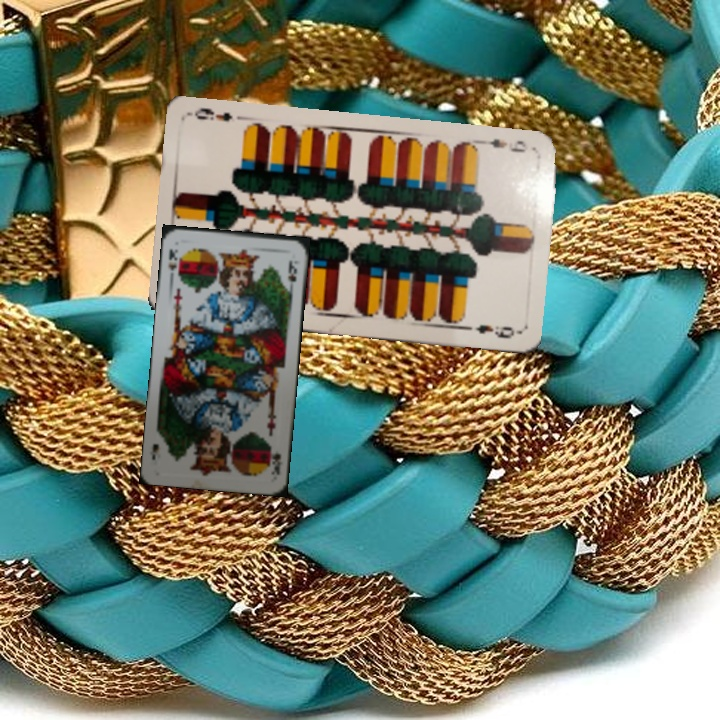E9: (477, 135, 531, 155)
SK: (265, 442, 284, 478), (164, 245, 183, 281)
